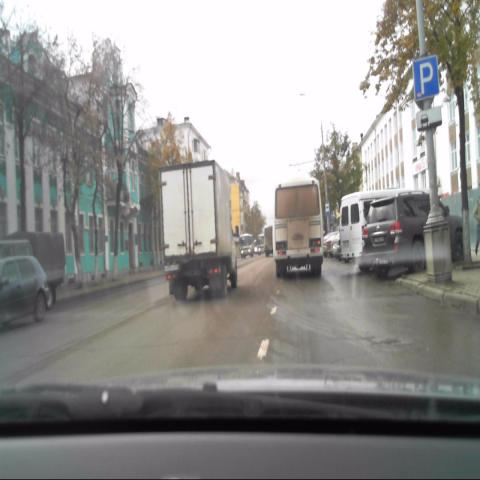8_6_2: (415, 105, 441, 127)
